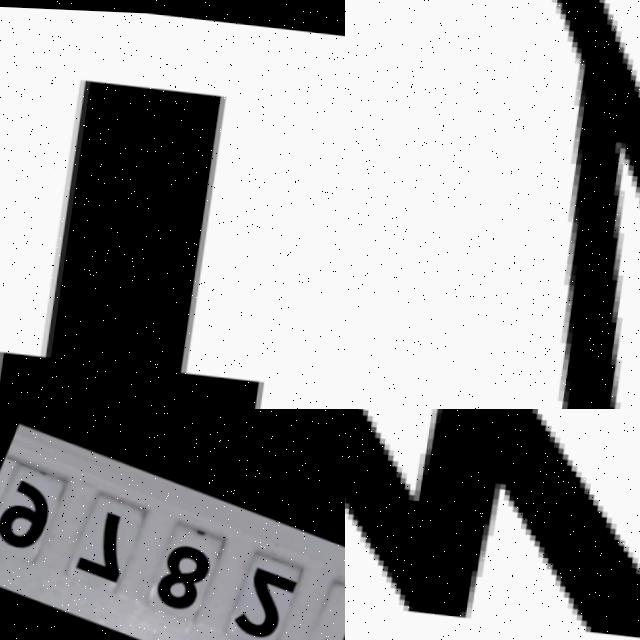1: (300, 578, 345, 640)
2: (224, 551, 308, 640)
7: (66, 493, 152, 597)
8: (141, 522, 226, 630)
9: (0, 466, 67, 568)
T: (0, 70, 305, 409)
W: (345, 409, 640, 640)
Y: (444, 0, 640, 409)
